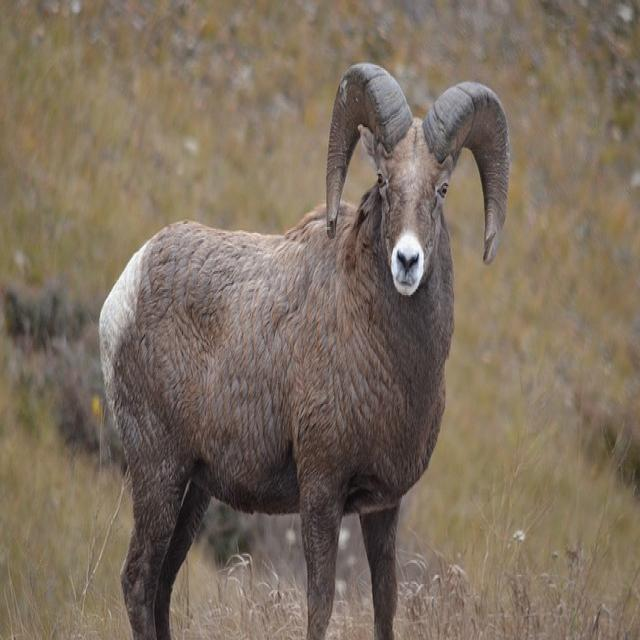goat: (97, 62, 512, 640)
